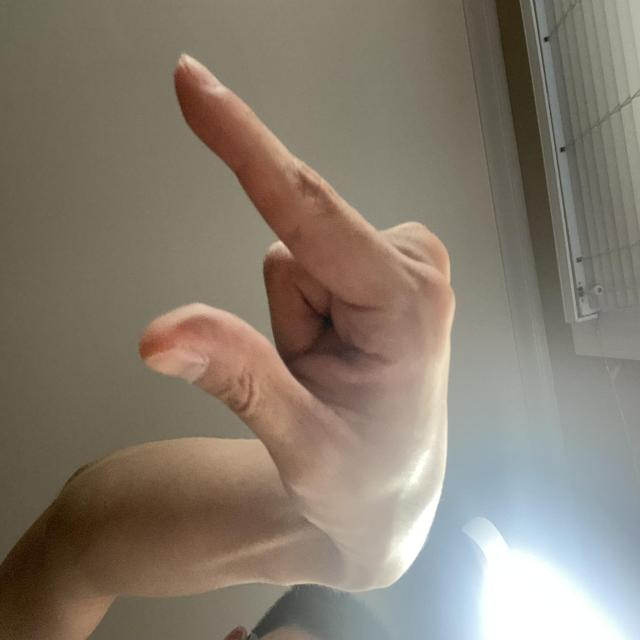Q: (191, 240, 610, 640)
